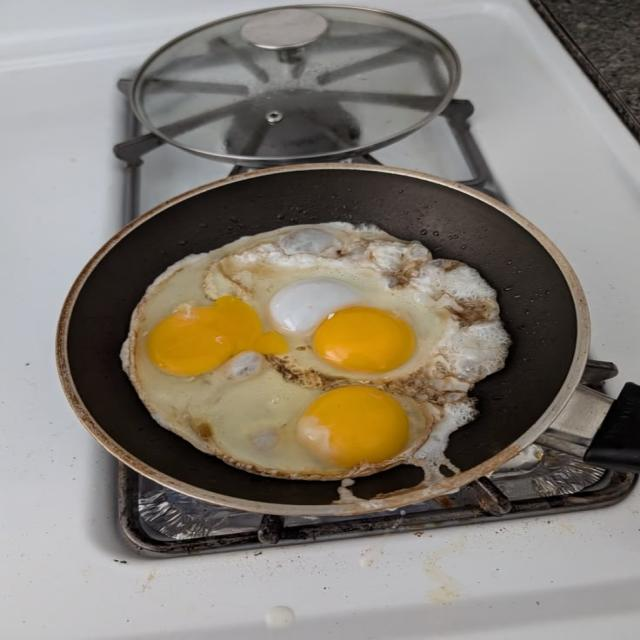fryed egg: (122, 223, 509, 478)
